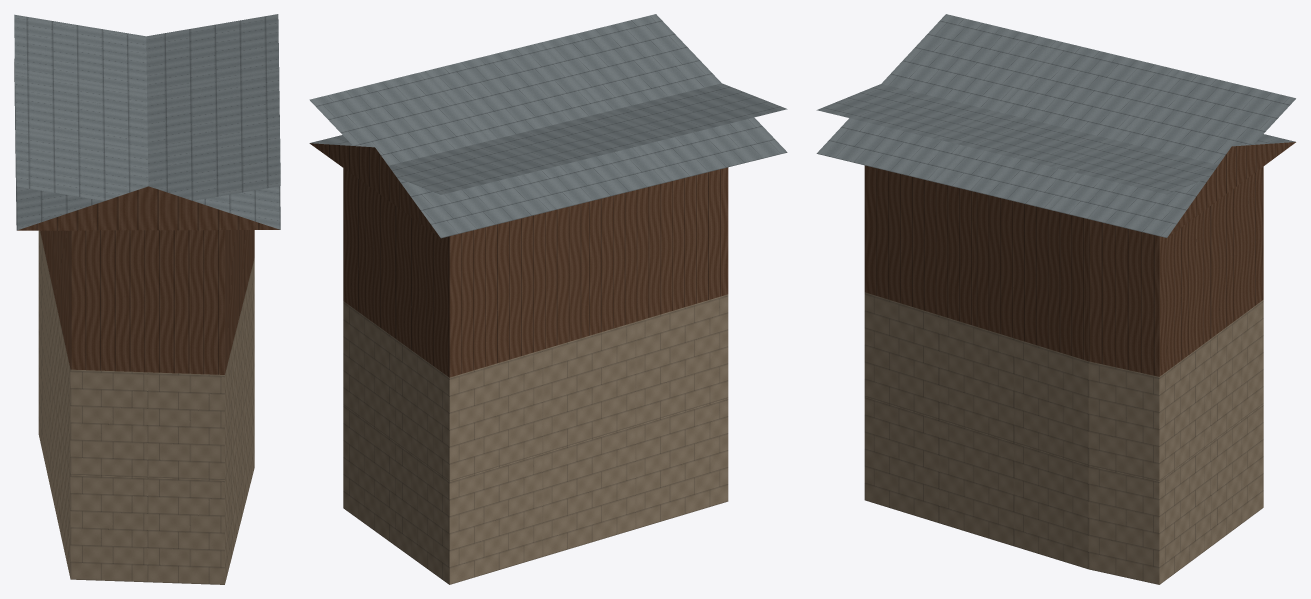
File: bld_c-23_11_544.gltf
3 views of the same model, side by side, from view 1: azimuth 30°, elevation 25°; view 2: azimuth 150°, elevation 25°; view 3: azimuth 270°, elevation 25° (orthographic).
Parts seen in each view (by area): view 1: bld_c-23_11_544; view 2: bld_c-23_11_544; view 3: bld_c-23_11_544.
Boxes of the visible parts, box(x1,y1,x2,y2) form: bld_c-23_11_544: box(14, 14, 280, 584); bld_c-23_11_544: box(309, 14, 787, 584); bld_c-23_11_544: box(816, 14, 1295, 584).
Size of the model in its own units: 8.88 by 9.3 by 9.98.
Materials: 4 (4 with a texture image).
